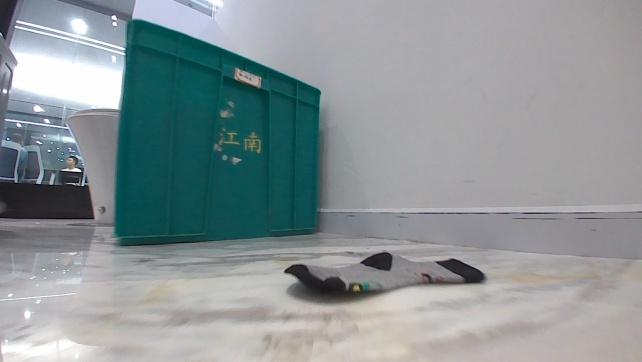socks: (281, 247, 485, 297)
toilet: (63, 104, 120, 226)
